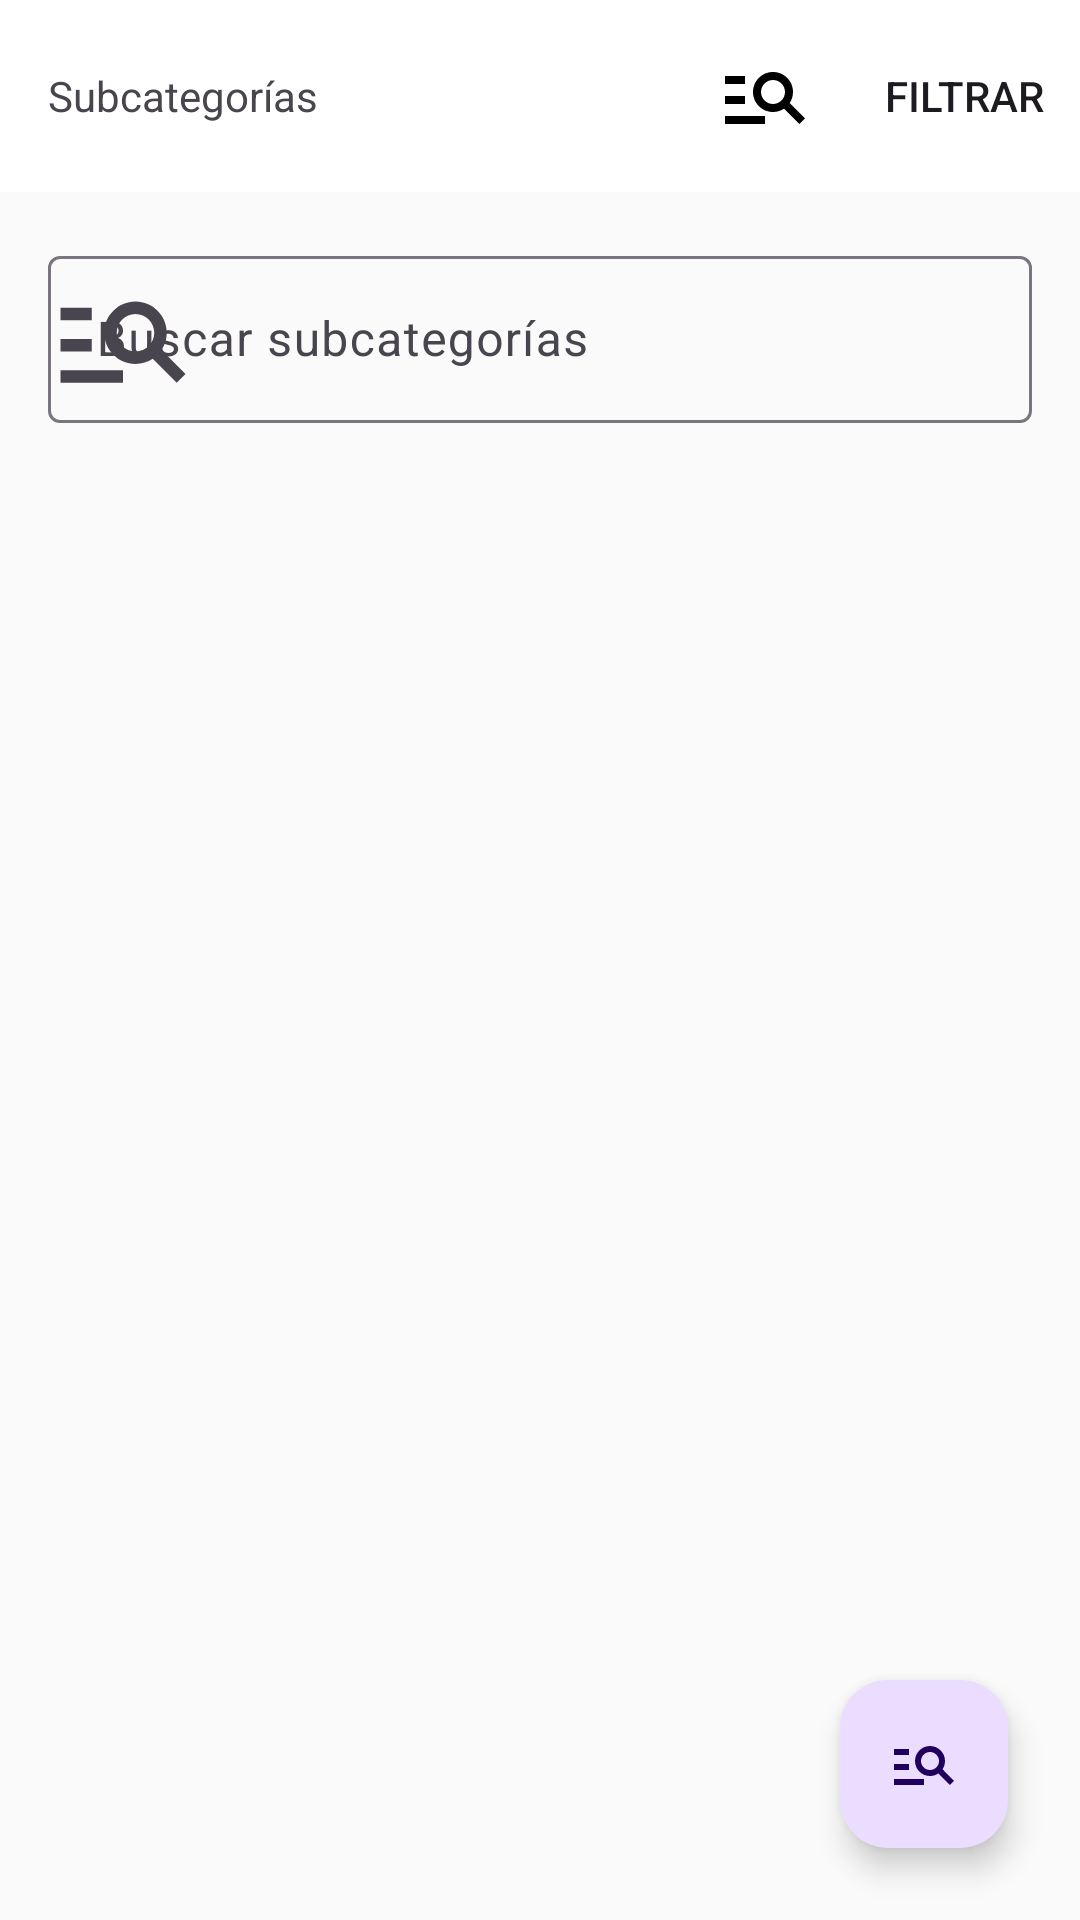

Named icons in this screenshot (1080w x 1920h) and their bounding boxes, (x1, y1, x2, y2):
Nueva búsqueda: (840, 1680, 1008, 1848)
